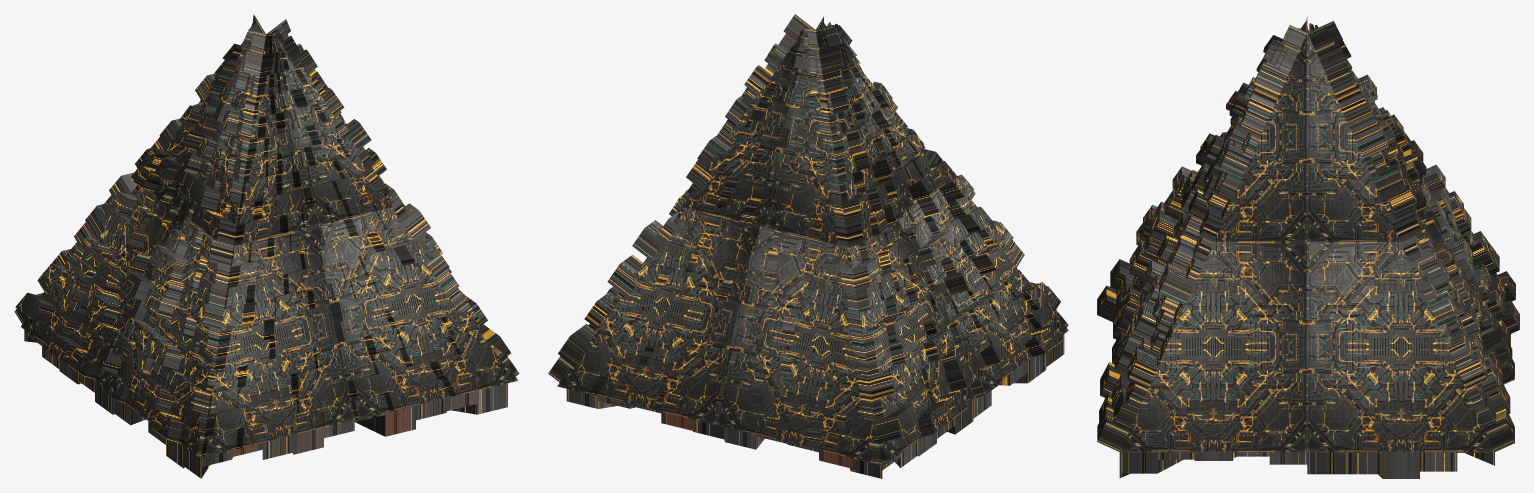
Rendered from futuristic_pyramid_cityscape.glb.
3 views of the same model, side by side, from view 1: azimuth 30°, elevation 25°; view 2: azimuth 150°, elevation 25°; view 3: azimuth 270°, elevation 25° (orthographic). The views are drawn at different scales.
Visible parts, largest first — view 1: Pyramid001; view 2: Pyramid001; view 3: Pyramid001.
Boxes of the visible parts, x1=… form: Pyramid001: x1=14, y1=14, x2=519, y2=478; Pyramid001: x1=548, y1=14, x2=1068, y2=478; Pyramid001: x1=1097, y1=15, x2=1519, y2=478.
Bounding box in the file's own units: 1.43 × 1.41 × 1.43.
1 material, 1 textured.
